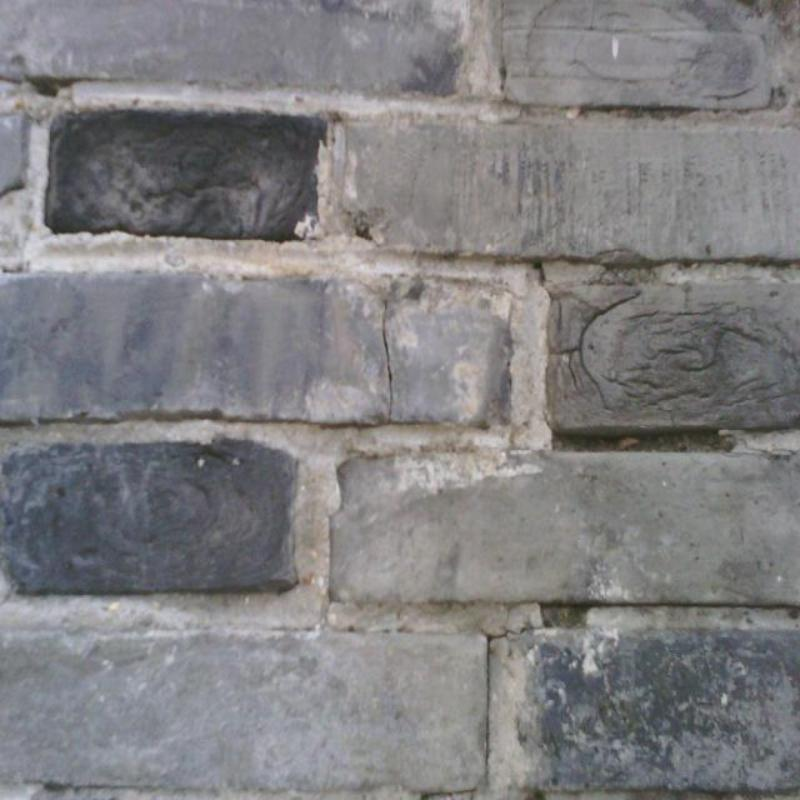crack: (422, 626, 541, 799), (550, 429, 716, 449), (581, 602, 798, 609), (383, 299, 393, 421), (534, 260, 552, 299), (540, 604, 588, 618), (30, 79, 71, 95)
